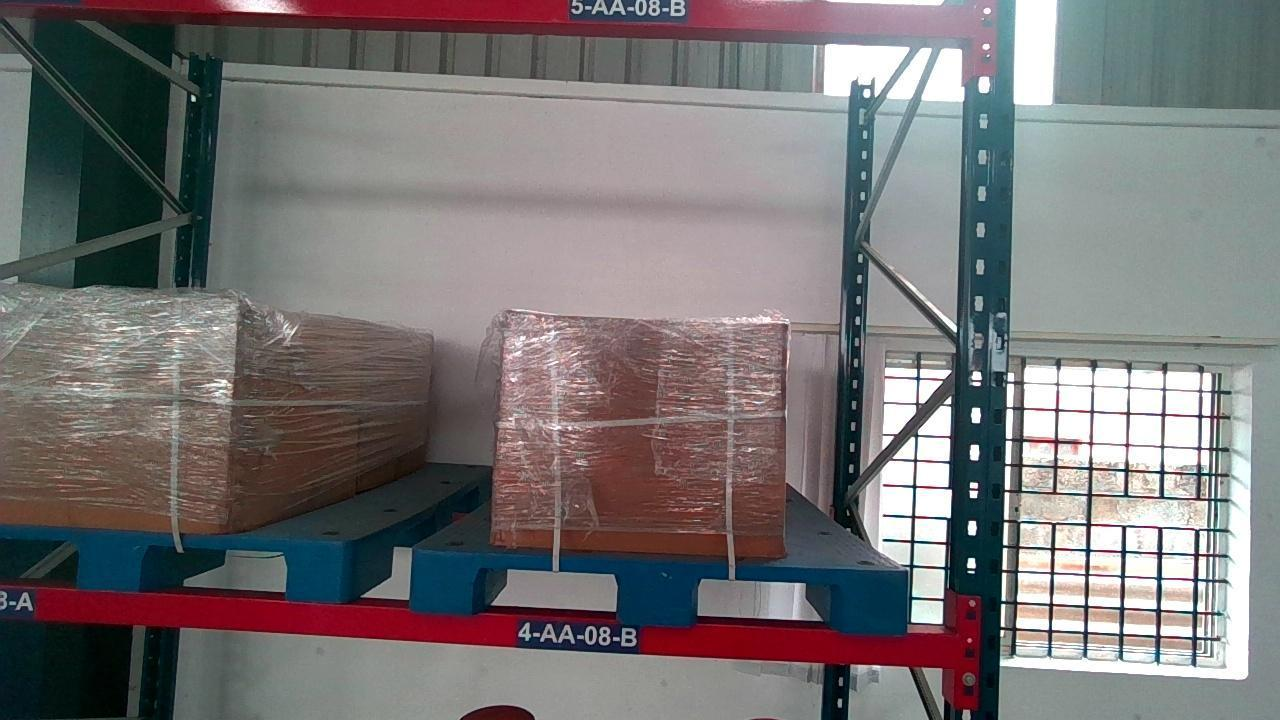h_rack: (0, 581, 951, 666), (72, 0, 973, 40)
small_pallet: (413, 555, 909, 625), (1, 528, 347, 596)
